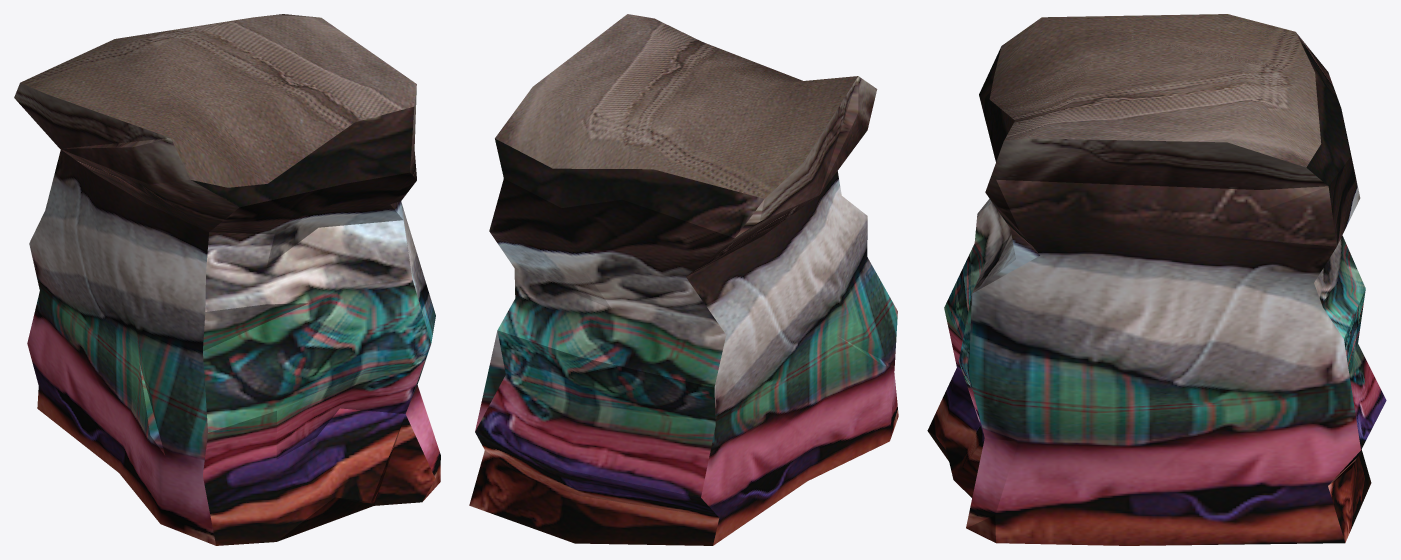
Rendered from shirt_pile-13.FBX.
3 views of the same model, side by side, from view 1: azimuth 30°, elevation 25°; view 2: azimuth 150°, elevation 25°; view 3: azimuth 270°, elevation 25° (orthographic). The views are drawn at different scales.
Visible parts, largest first — view 1: Object08; view 2: Object08; view 3: Object08.
Part boxes in pixels (x1,y1,x2,y2): Object08: (14,14,440,545); Object08: (469,14,898,545); Object08: (927,14,1386,545).
Size of the model in its own units: 16.98 by 20.73 by 21.36.
